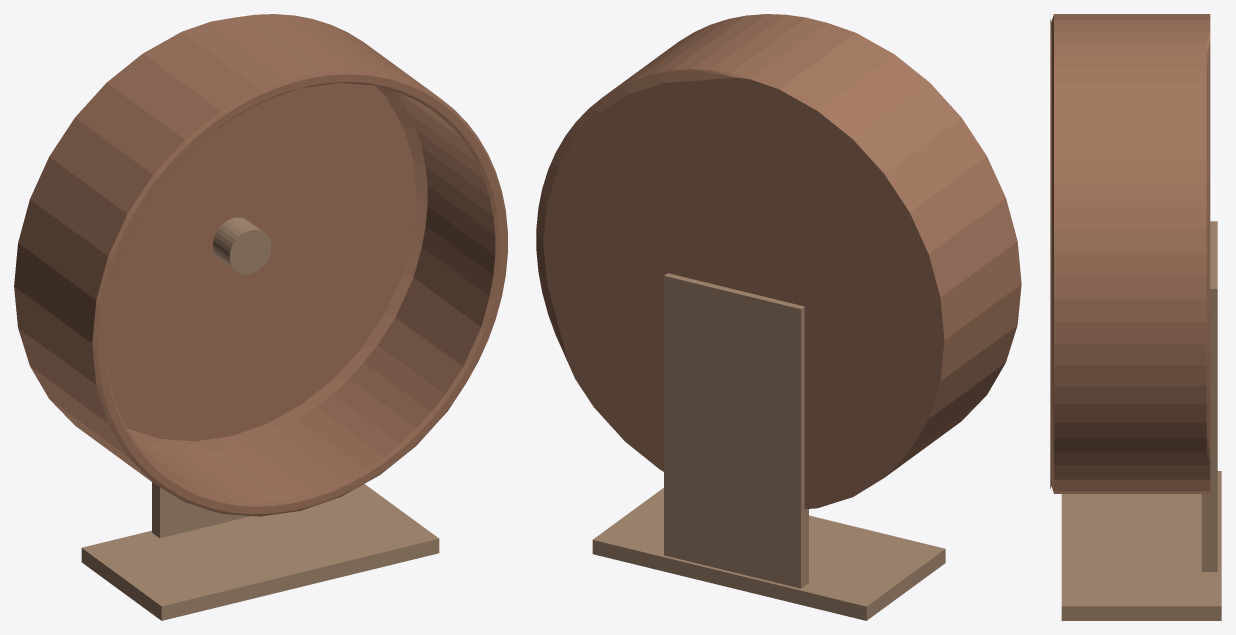
Rendered from wheel.glb.
3 renders of one model, left to right at view 1: azimuth 30°, elevation 25°; view 2: azimuth 150°, elevation 25°; view 3: azimuth 270°, elevation 25°, orthographic.
Visible parts, largest first — view 1: Cube.001; view 2: Cube.001; view 3: Cube.001.
Boxes of the visible parts, box(x1,y1,x2,y2) form: Cube.001: box(14, 14, 507, 620); Cube.001: box(536, 14, 1021, 620); Cube.001: box(1050, 14, 1221, 620).
Bounding box in the file's own units: 5.99 × 7.09 × 2.14.
